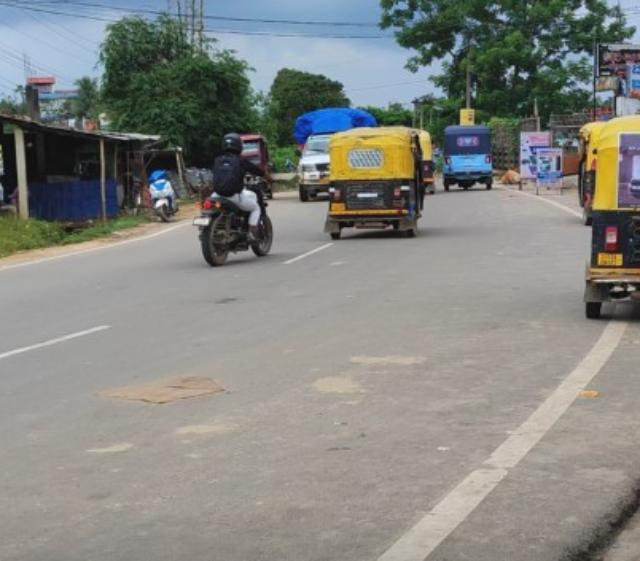licensePlate: (191, 217, 208, 226)
motorcycle: (188, 130, 272, 265)
withHelmet: (219, 133, 242, 152)
